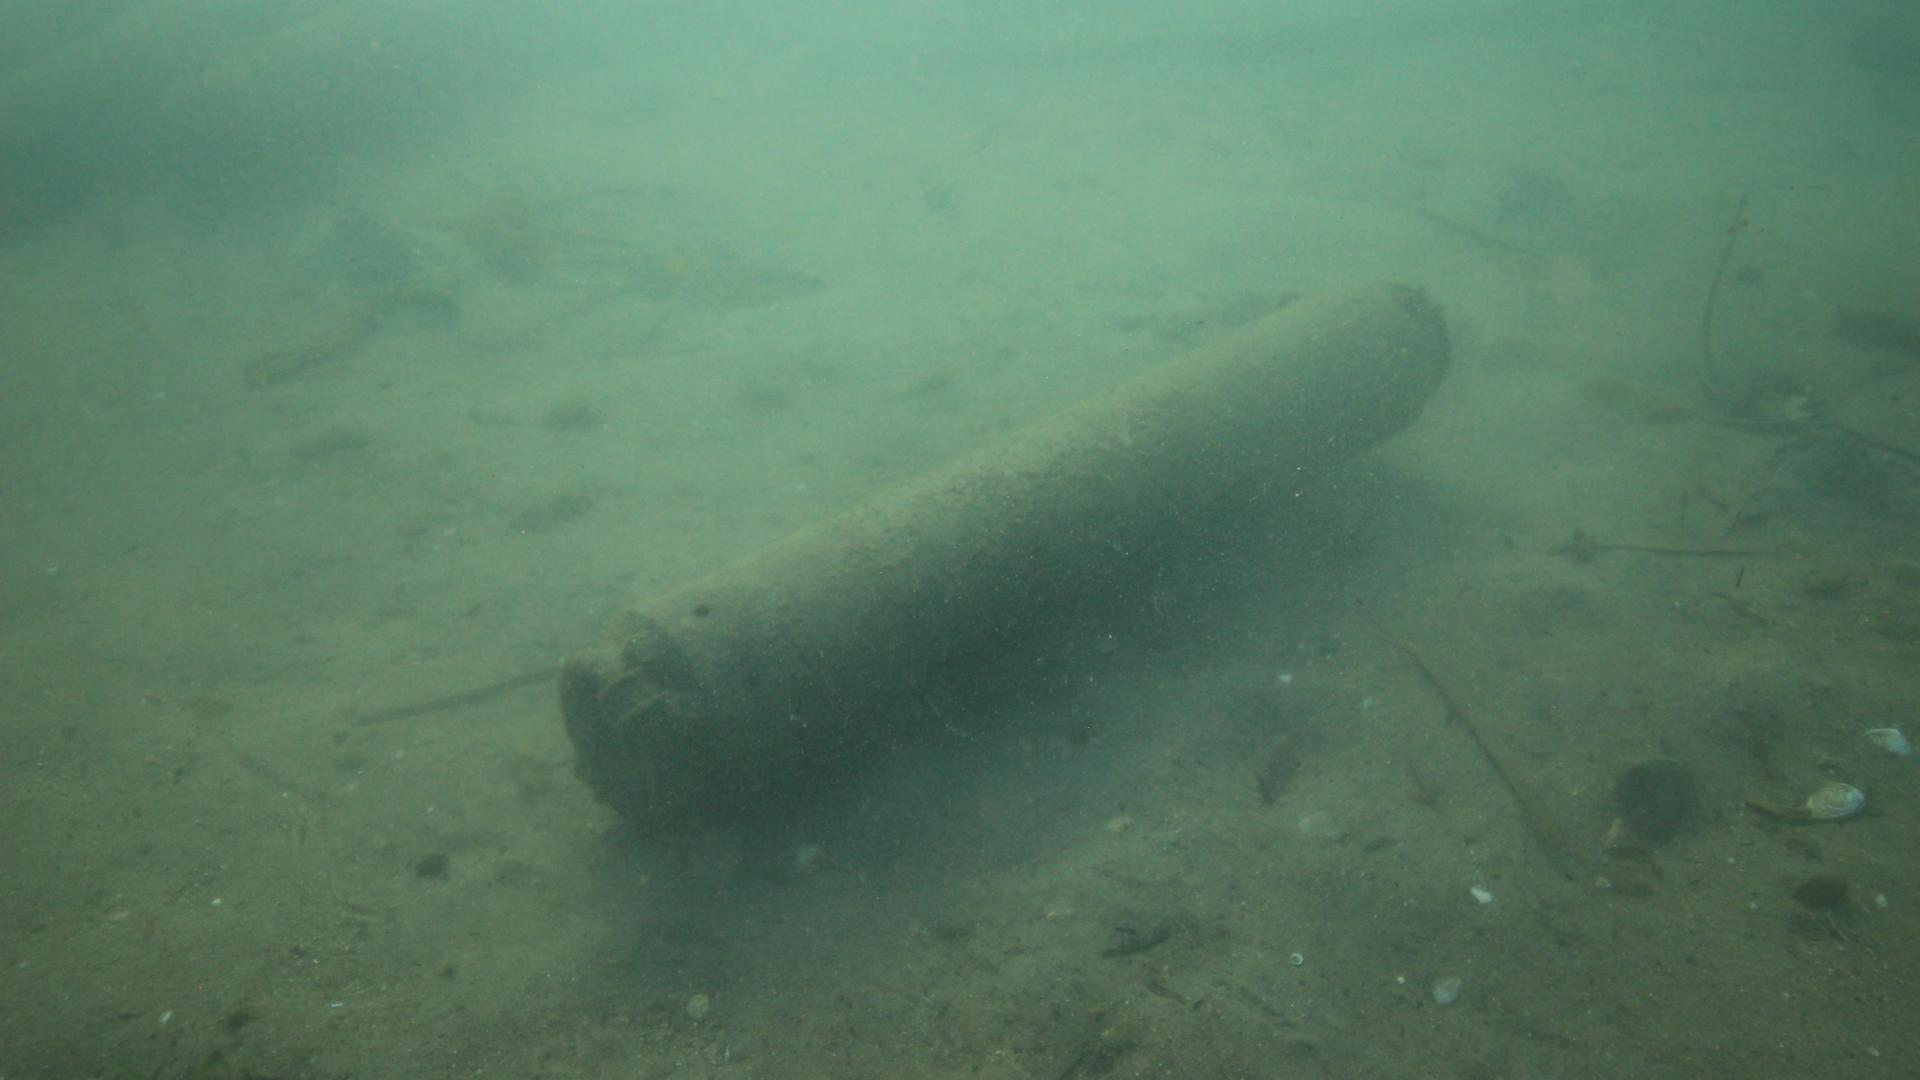eel fish trap: (559, 280, 1451, 822)
